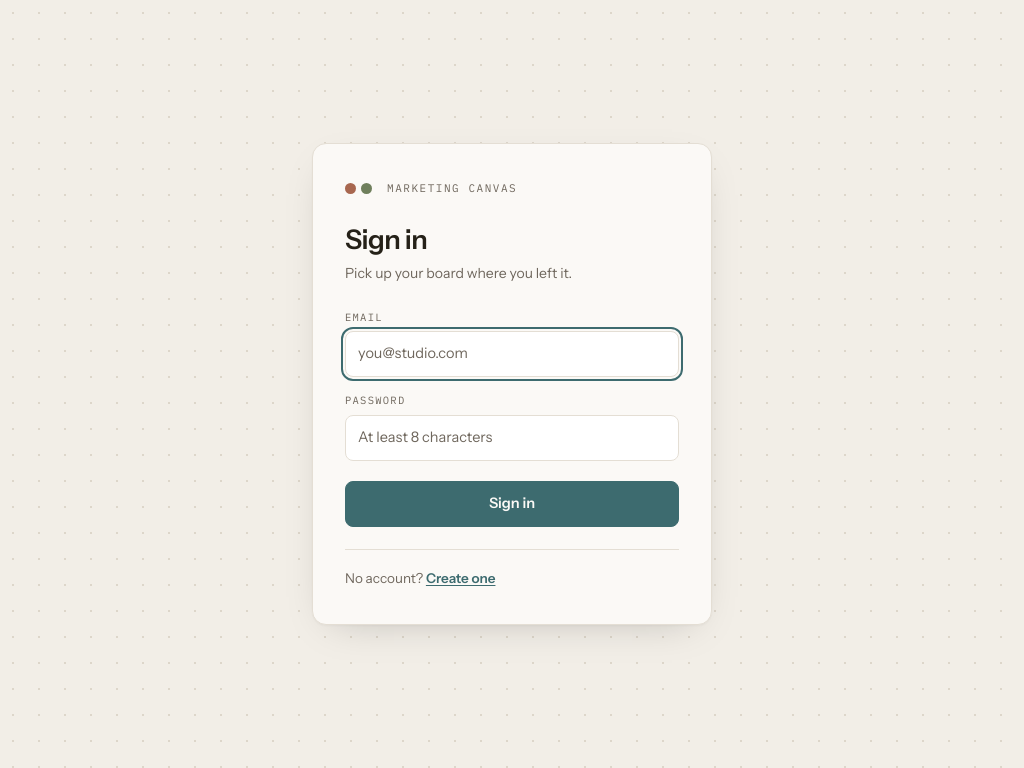
Test case: Sign in › blocks a 7-character password with the 8-character rule
The width and height of the screenshot is (1024, 768).
Expected: the heading "Sign in" is shown, top-left (345, 223), bottom-right (427, 256)
Type "ada@example.com" into the field labelled "Email".
click(512, 354); type("ada@example.com")  # box top-left (345, 331), bottom-right (679, 377)
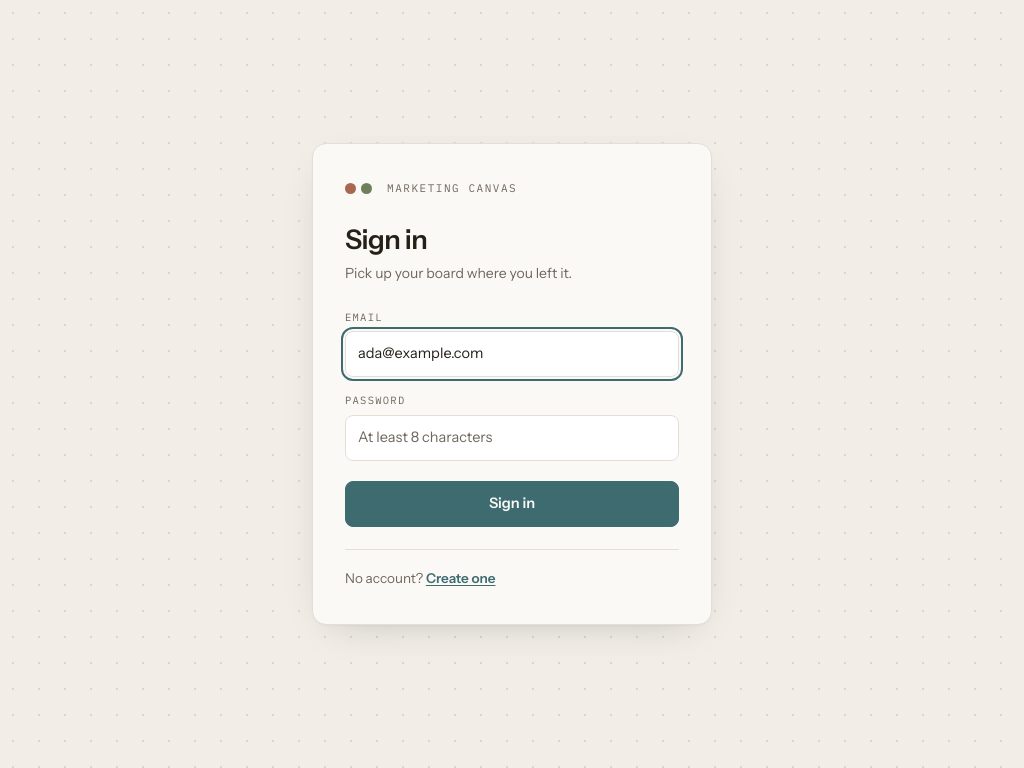
Type "1234567" into the password field labelled "Password".
click(512, 438); type("1234567")  # box top-left (345, 415), bottom-right (679, 461)
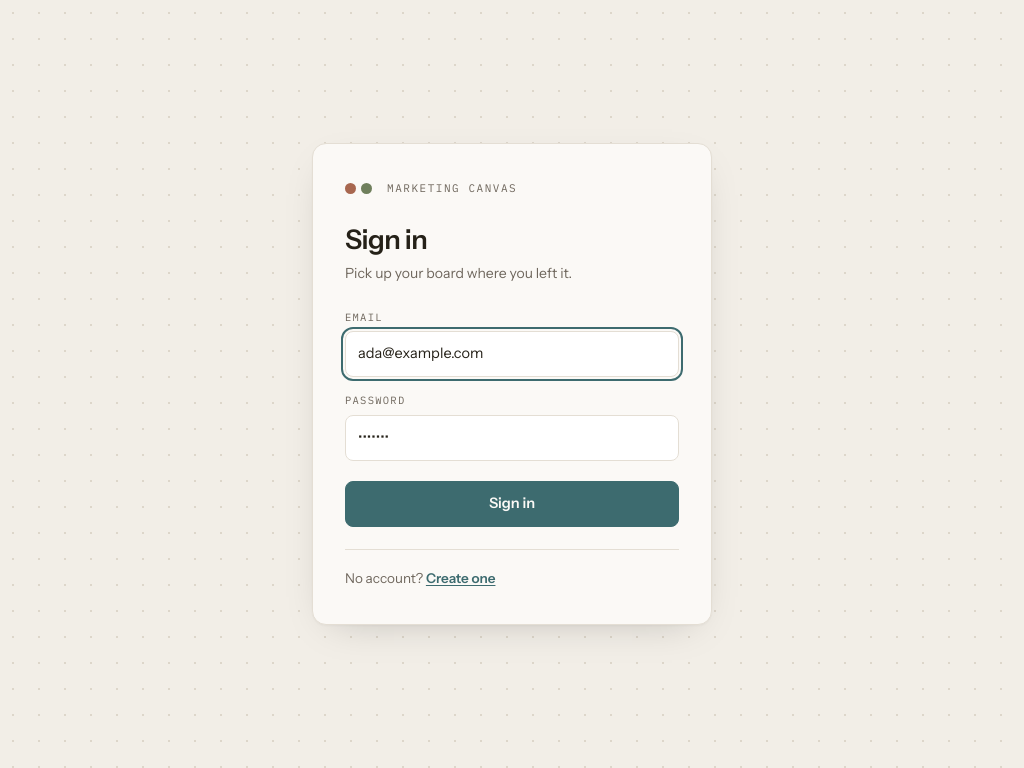
Click the button "Sign in".
click(512, 504)  # box top-left (345, 480), bottom-right (679, 526)
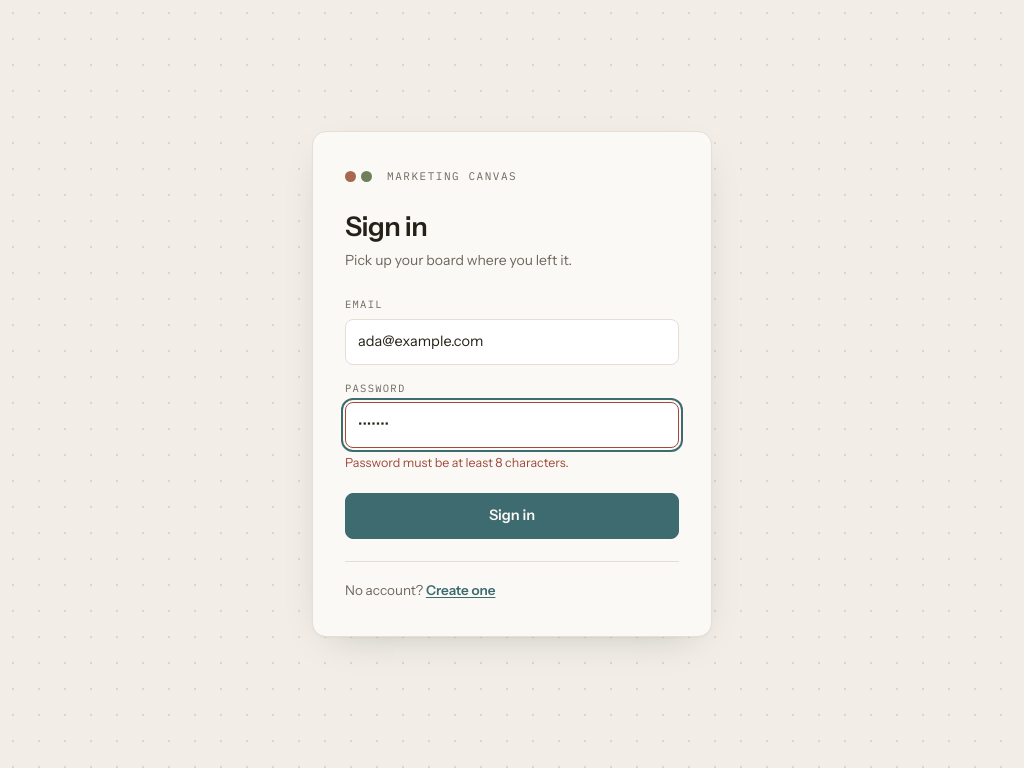
Expected: the text "Password must be at least 8 characters." is shown, top-left (345, 455), bottom-right (569, 470)
